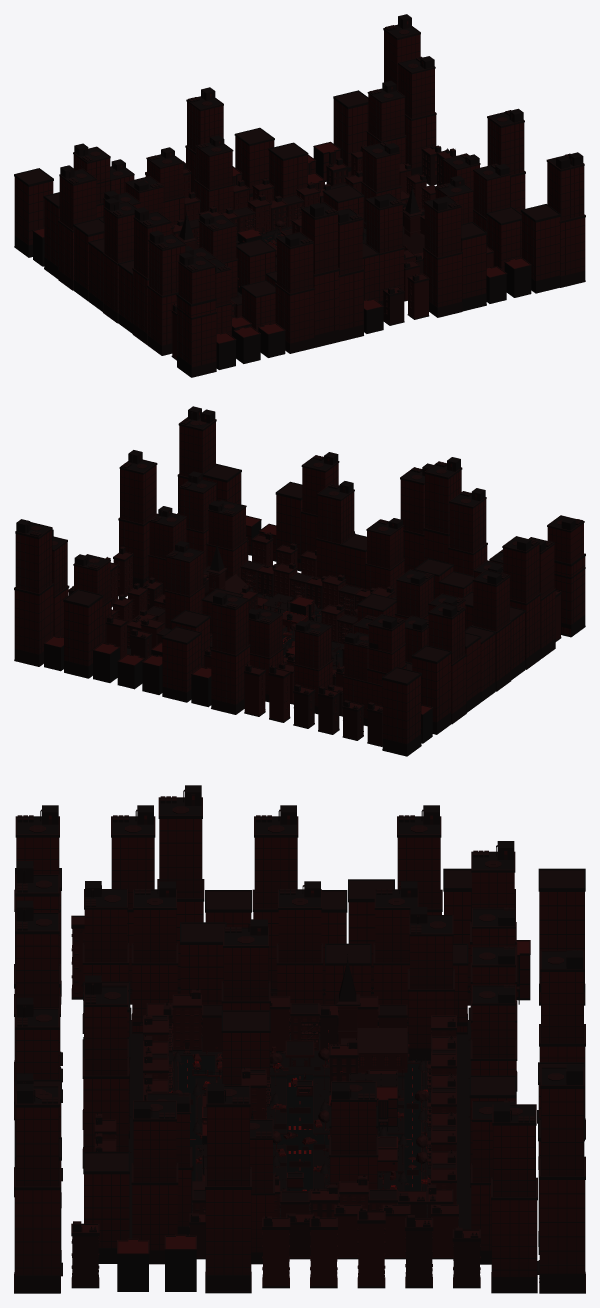
Rendered from cidade.glb.
3 renders of one model, top to bottom at view 1: azimuth 30°, elevation 25°; view 2: azimuth 150°, elevation 25°; view 3: azimuth 270°, elevation 25°, orthographic. The views are drawn at different scales.
Visible parts, largest first — view 1: House_02_944, House_02_938, House_02_939, House_02_959, House_02_923, House_02_961, House_02_940, House_02_949, House_02_891, House_02_953, Bank_01_948, House_02_956 (+46 smaller); view 2: House_02_921, House_02_913, House_02_929, Bank_01_950, House_02_958, House_02_956, House_02_891, House_02_938, Bank_01_919, House_02_939, House_02_953, House_02_127 (+54 smaller); view 3: House_02_921, House_02_929, House_02_949, House_02_923, House_02_891, House_02_882, House_02_88, House_02_904, House_02_958, House_02_901, House_02_913, House_02_956 (+66 smaller).
Part boxes in pixels (<box>): House_02_944: <box>423,196,462,317</box>; House_02_938: <box>275,232,315,353</box>; House_02_939: <box>301,202,339,347</box>; House_02_959: <box>147,230,186,355</box>; House_02_923: <box>398,56,436,175</box>; House_02_961: <box>177,252,216,377</box>; House_02_940: <box>337,208,364,341</box>; House_02_949: <box>548,155,585,287</box>; House_02_891: <box>365,193,404,304</box>; House_02_953: <box>58,165,96,290</box>; Bank_01_948: <box>521,204,560,293</box>; House_02_956: <box>102,198,137,323</box>; House_02_921: <box>14,519,53,666</box>; House_02_913: <box>210,592,250,714</box>; House_02_929: <box>118,450,157,587</box>; Bank_01_950: <box>382,667,421,756</box>; House_02_958: <box>502,536,541,669</box>; House_02_956: <box>472,569,511,691</box>; House_02_891: <box>316,481,355,577</box>; House_02_938: <box>448,488,487,575</box>; Bank_01_919: <box>63,589,103,678</box>; House_02_939: <box>423,457,462,563</box>; House_02_953: <box>428,602,466,724</box>; House_02_127: <box>164,541,205,628</box>; House_02_921: <box>537,1064,585,1293</box>; House_02_929: <box>205,1084,251,1293</box>; House_02_949: <box>14,1073,62,1293</box>; House_02_923: <box>491,1104,537,1293</box>; House_02_891: <box>82,975,131,1168</box>; House_02_882: <box>131,1100,178,1264</box>; House_02_88: <box>407,907,456,1060</box>; House_02_904: <box>131,881,178,1033</box>; House_02_958: <box>157,785,204,994</box>; House_02_901: <box>276,881,323,1033</box>; House_02_913: <box>537,950,585,1139</box>; House_02_956: <box>252,805,298,995</box>.
Size of the model in its own units: 186 by 62.47 by 146.
Materials: 1 (1 with a texture image).
